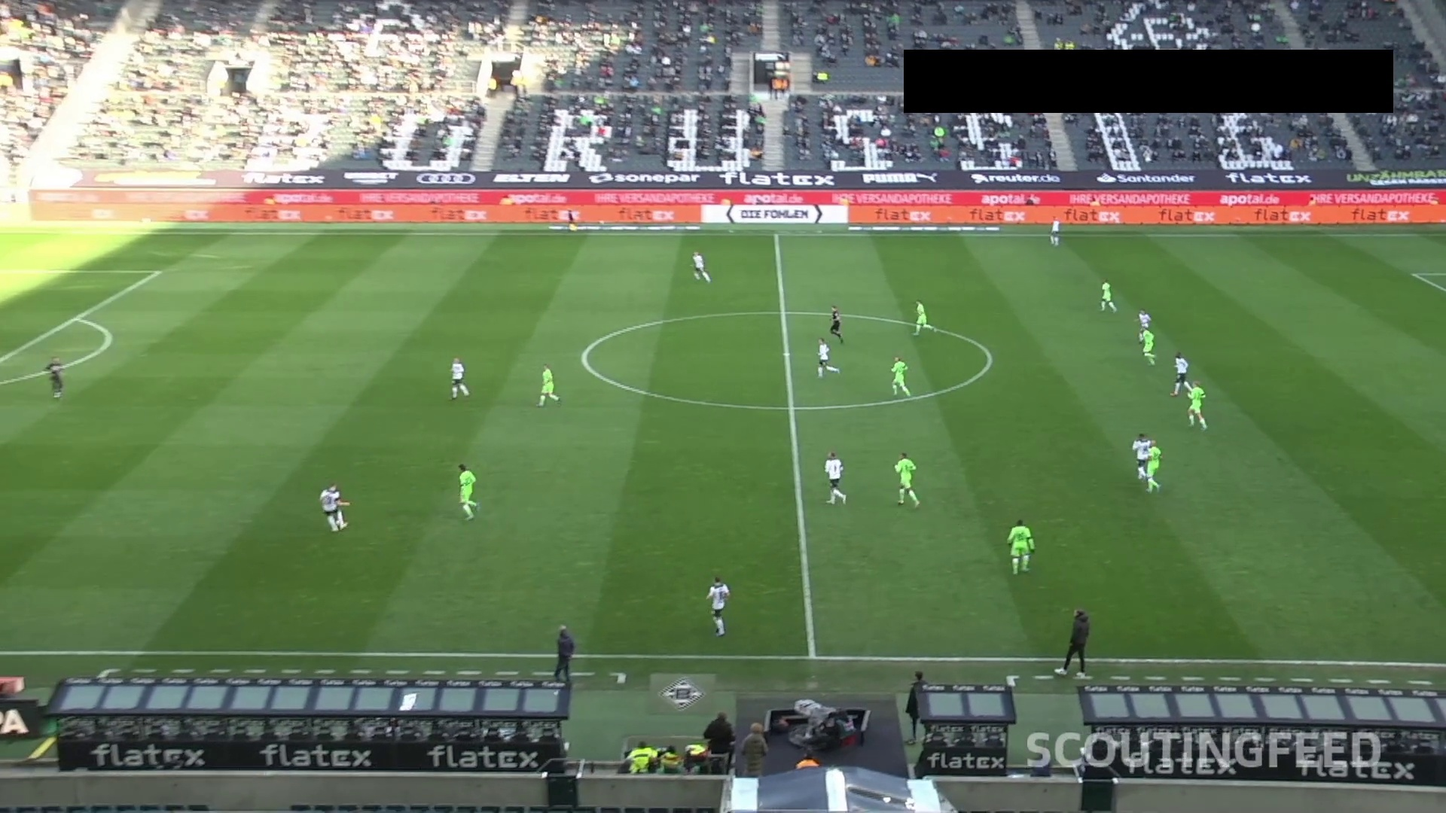ball: (774, 370, 788, 378)
goalkeeper: (1287, 565, 1316, 606), (130, 224, 159, 264)
player: (622, 467, 651, 508), (766, 451, 795, 492), (853, 443, 882, 484), (593, 370, 622, 411), (680, 321, 709, 362), (737, 533, 766, 573), (651, 427, 680, 467), (709, 402, 737, 443)
referee: (752, 354, 781, 394)
